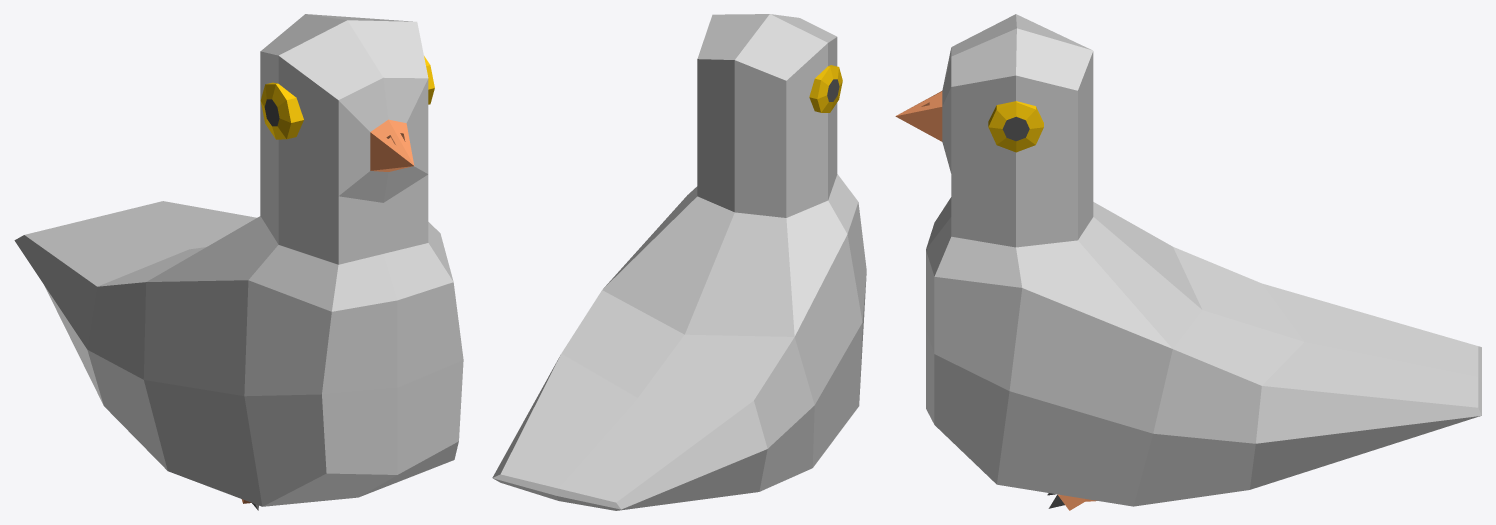
File: Dove.glb
The picture shows the model from 3 angles, left to right: view 1: azimuth 30°, elevation 25°; view 2: azimuth 150°, elevation 25°; view 3: azimuth 270°, elevation 25°; orthographic projection. The views are drawn at different scales.
Visible parts, largest first — view 1: Dove_01_Cube.032; view 2: Dove_01_Cube.032; view 3: Dove_01_Cube.032.
Boxes of the visible parts, x1=… form: Dove_01_Cube.032: x1=14, y1=14, x2=463, y2=510; Dove_01_Cube.032: x1=492, y1=14, x2=866, y2=510; Dove_01_Cube.032: x1=895, y1=14, x2=1481, y2=510.
Bounding box in the file's own units: 11.15 × 20.12 × 24.2.
